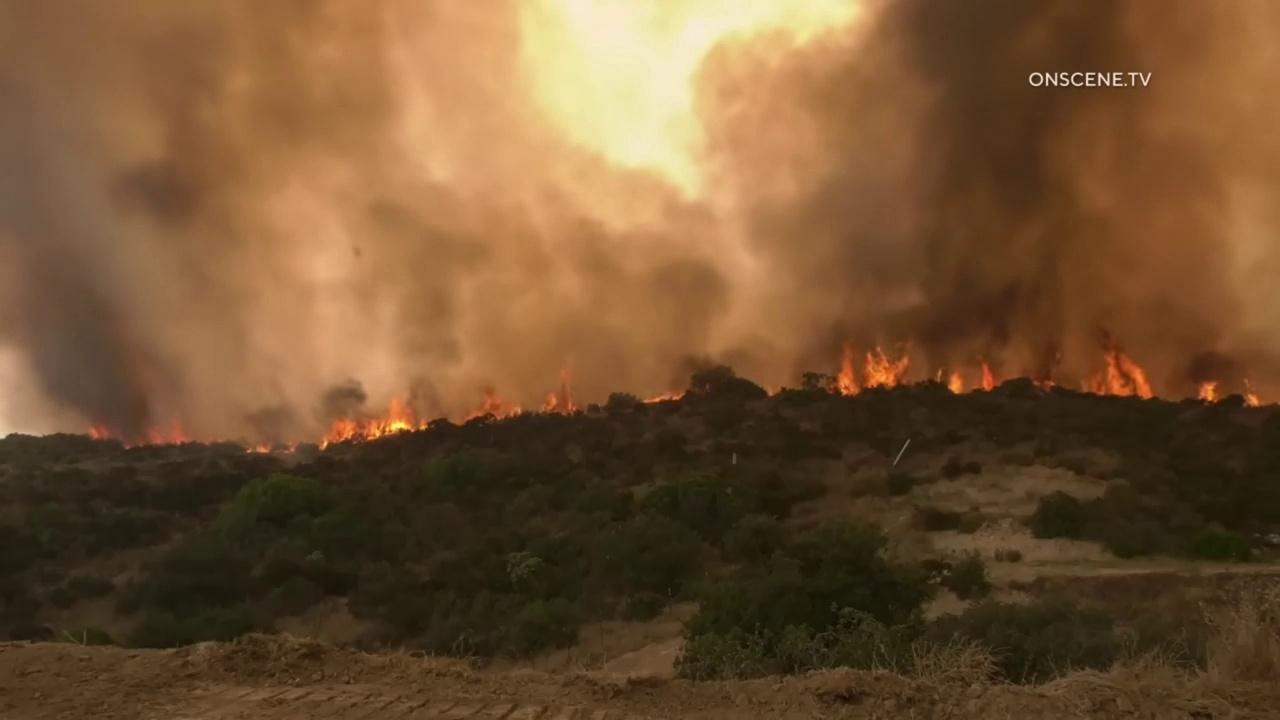fire: (318, 399, 429, 451), (838, 342, 910, 398), (86, 417, 189, 451), (1087, 350, 1153, 400), (465, 392, 522, 426), (540, 370, 576, 417), (640, 392, 685, 404), (1199, 380, 1219, 403), (947, 368, 963, 395), (981, 361, 993, 393), (1243, 392, 1260, 409), (255, 444, 270, 454), (936, 367, 942, 384), (1044, 379, 1056, 387), (1032, 379, 1041, 387), (766, 386, 773, 396), (289, 447, 296, 453), (246, 448, 253, 454)
smoke: (0, 0, 1280, 448)
